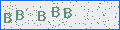B: (64, 8, 72, 18), (52, 7, 60, 17), (38, 11, 46, 21), (16, 10, 24, 20), (4, 13, 12, 23)
